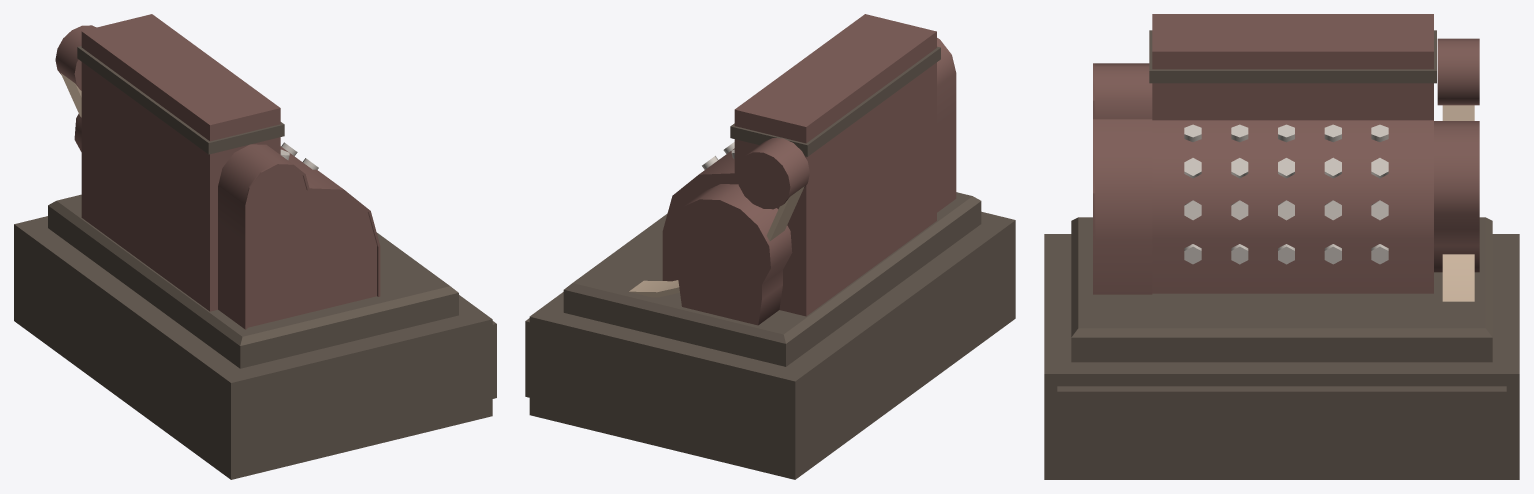
The model's file is SM_CashRegister.fbx.
3 views of the same model, side by side, from view 1: azimuth 30°, elevation 25°; view 2: azimuth 150°, elevation 25°; view 3: azimuth 270°, elevation 25° (orthographic). The views are drawn at different scales.
Parts seen in each view (by area): view 1: SM_CashRegister_Old; view 2: SM_CashRegister_Old; view 3: SM_CashRegister_Old.
Boxes of the visible parts, left/top/right/bottom form: SM_CashRegister_Old: left=14, top=14, right=496, bottom=479; SM_CashRegister_Old: left=525, top=14, right=1015, bottom=479; SM_CashRegister_Old: left=1044, top=14, right=1519, bottom=479.
Bounding box in the file's own units: 62.38 × 68.39 × 86.32.
Materials: 1 (1 with a texture image).
